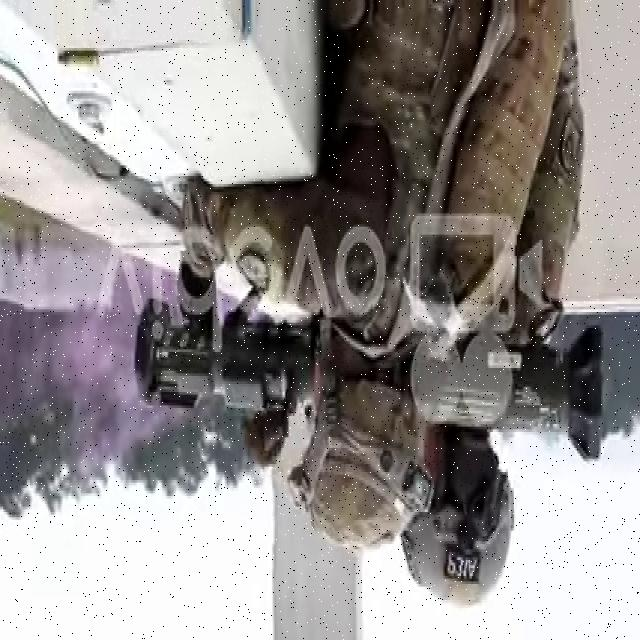bazooka: (131, 311, 618, 473)
